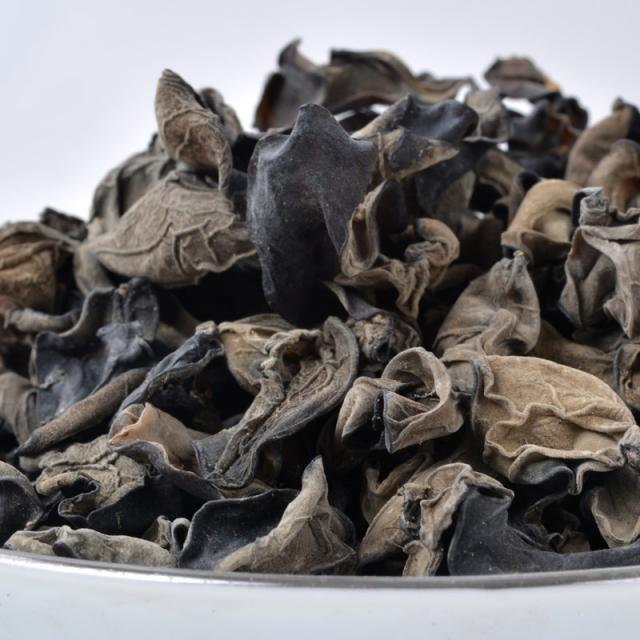Auricularia auricula: (0, 36, 640, 585)
